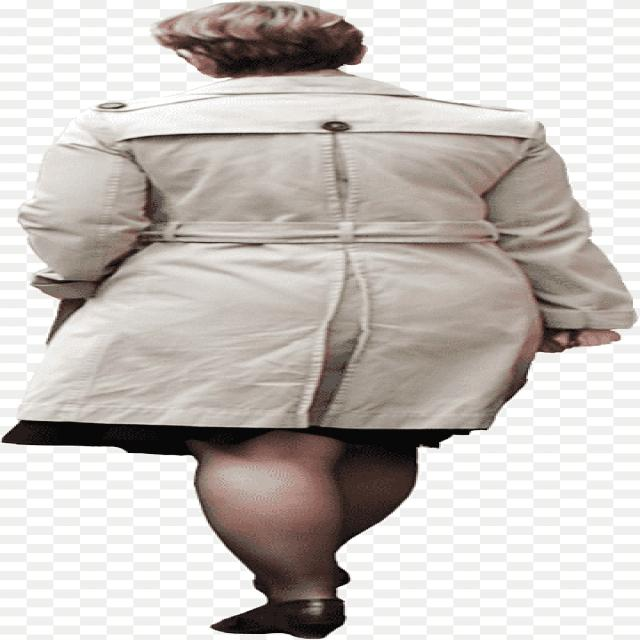adult: (33, 0, 625, 637)
